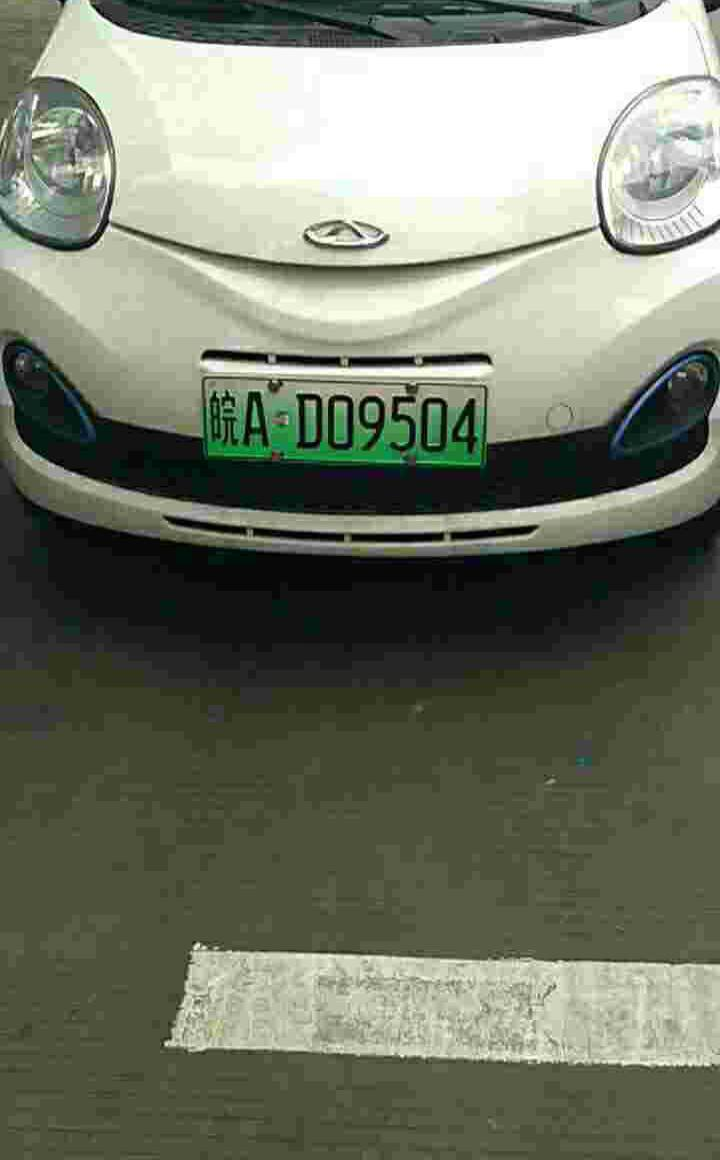car_id: (204, 373, 486, 468)
